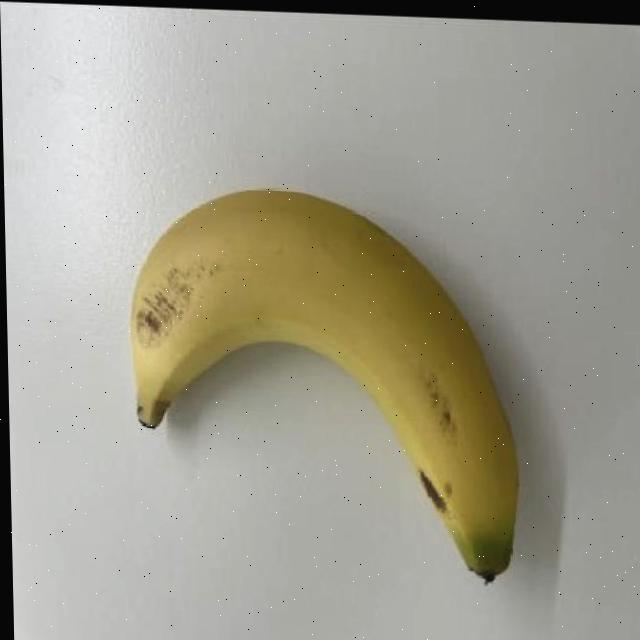banana: (120, 182, 525, 593)
